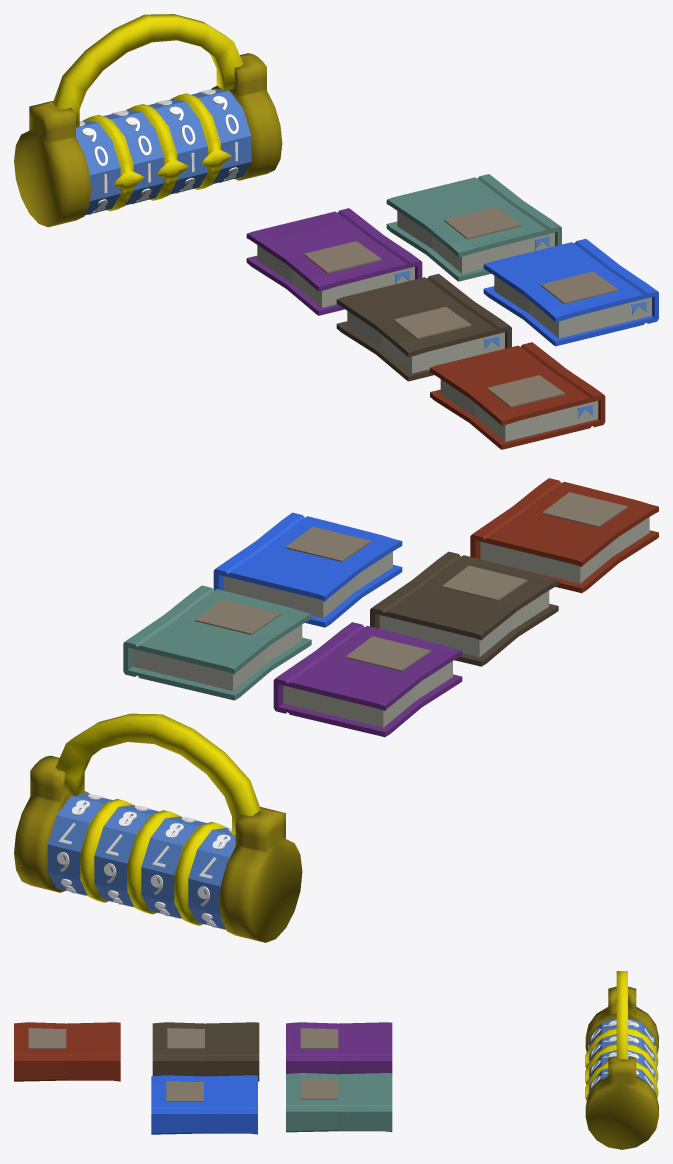
The model's file is librosYCandado.fbx.
The picture shows the model from 3 angles, top to bottom: view 1: azimuth 30°, elevation 25°; view 2: azimuth 150°, elevation 25°; view 3: azimuth 270°, elevation 25°; orthographic projection. The views are drawn at different scales.
Parts seen in each view (by area): view 1: LibroRojo, LibroAzul, LibroMarron, LibroVerde, LibroMorado, Apparatus_Head, Lock, Base, Apparatus_End, Keys.001, Keys.003, Keys.002 (+1 smaller); view 2: LibroMorado, LibroVerde, LibroRojo, LibroAzul, LibroMarron, Apparatus_Head, Lock, Base, Apparatus_End, Keys.003, Keys.001, Keys.002 (+1 smaller); view 3: LibroVerde, LibroRojo, LibroAzul, LibroMarron, LibroMorado, Apparatus_End, Base, Apparatus_Head, Lock, Keys, Keys.003, Keys.002 (+1 smaller).
Boxes of the visible parts, box(x1,y1,x2,y2) form: LibroRojo: box(430, 342, 605, 449); LibroAzul: box(483, 238, 658, 346); LibroMarron: box(336, 273, 511, 381); LibroVerde: box(386, 174, 561, 281); LibroMorado: box(246, 208, 422, 315); Apparatus_Head: box(14, 100, 91, 227); Lock: box(52, 14, 243, 127); Base: box(81, 93, 231, 211); Apparatus_End: box(211, 53, 282, 180); Keys.001: box(191, 88, 251, 183); Keys.003: box(103, 110, 164, 205); Keys.002: box(148, 99, 207, 194); LibroMorado: box(273, 622, 462, 737); LibroVerde: box(123, 585, 311, 700); LibroRojo: box(470, 478, 658, 593); LibroAzul: box(213, 512, 402, 627); LibroMarron: box(370, 551, 558, 666); Apparatus_Head: box(219, 807, 302, 942); Lock: box(55, 713, 260, 835); Base: box(47, 799, 227, 925); Apparatus_End: box(14, 755, 89, 892); Keys.003: box(141, 816, 206, 918); Keys.001: box(47, 793, 112, 895); Keys.002: box(94, 805, 158, 907); LibroVerde: box(286, 1073, 392, 1132); LibroRojo: box(14, 1022, 120, 1081); LibroAzul: box(151, 1075, 257, 1134); LibroMarron: box(152, 1022, 259, 1081); LibroMorado: box(286, 1022, 392, 1074); Apparatus_End: box(585, 1056, 658, 1149); Base: box(585, 1028, 658, 1100); Apparatus_Head: box(585, 986, 658, 1054); Lock: box(616, 971, 627, 1059); Keys: box(588, 1018, 656, 1052); Keys.003: box(588, 1034, 656, 1067); Keys.002: box(588, 1050, 656, 1084).
Size of the model in its own units: 141 by 80.02 by 351.
